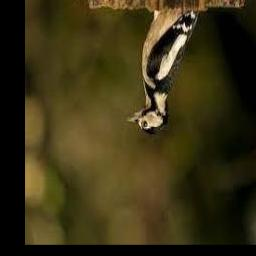Woodpecker: (125, 10, 199, 134)
